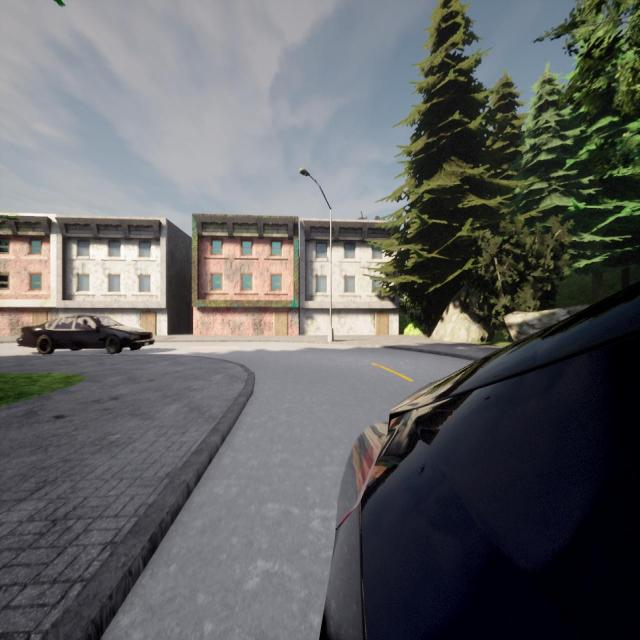Vehicle: (322, 282, 640, 640), (14, 314, 156, 356)
